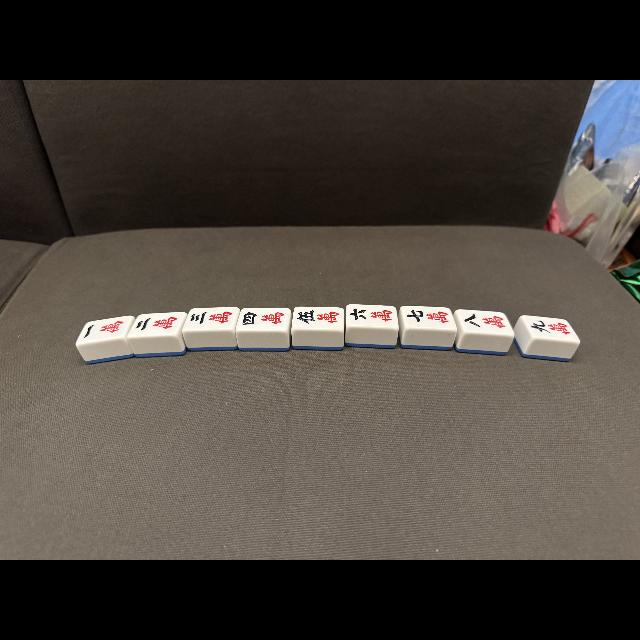c1: (80, 319, 128, 341)
c2: (131, 313, 181, 335)
c3: (186, 308, 236, 329)
c4: (238, 308, 290, 329)
c5: (294, 308, 342, 328)
c6: (348, 304, 397, 328)
c7: (404, 306, 454, 328)
c8: (461, 310, 512, 334)
c9: (528, 316, 574, 339)
